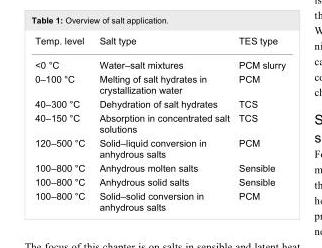table: (34, 35, 284, 211)
table column: (91, 35, 233, 211), (34, 35, 91, 211), (233, 35, 284, 211)
table row: (34, 71, 284, 96), (34, 110, 284, 135), (34, 135, 284, 160), (34, 188, 284, 211), (34, 52, 284, 71), (34, 35, 284, 52), (34, 96, 284, 110), (34, 160, 284, 174), (34, 174, 284, 188)
